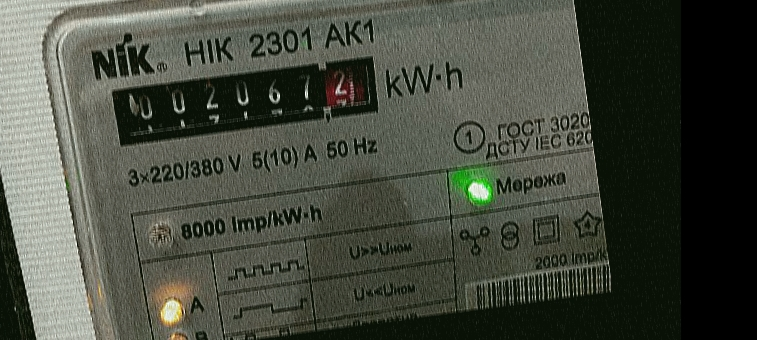0: (135, 91, 157, 122), (168, 85, 189, 116), (231, 76, 252, 107)
2: (329, 66, 351, 97), (201, 81, 222, 112)
6: (264, 75, 286, 106)
7: (297, 71, 317, 103)
screen: (97, 41, 397, 161)
